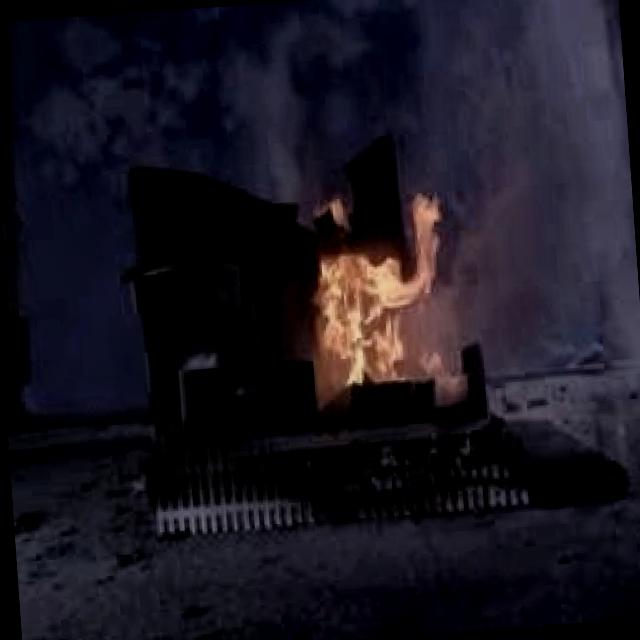fire: (268, 174, 470, 409)
